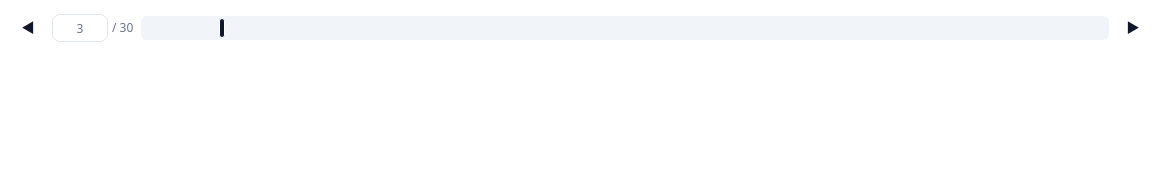
Test case: PagePositionBar › 편집 중 위치가 바뀌면 입력은 새 위치를 보인다
Replace the text in the field with test id "bar-input-page" with "9" at coordinates (80, 28), box [52,14,108,42]
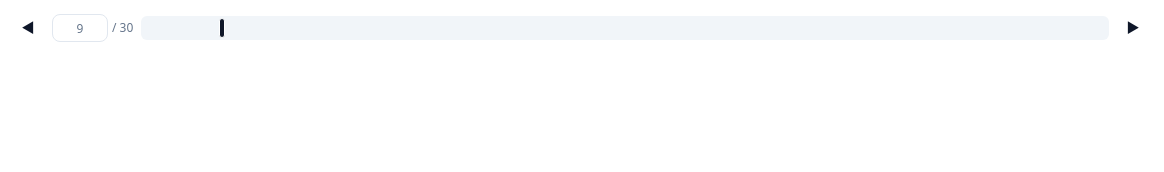
Click the button with test id "bar-button-next" at coordinates (1133, 28), box [1117,12,1149,44]
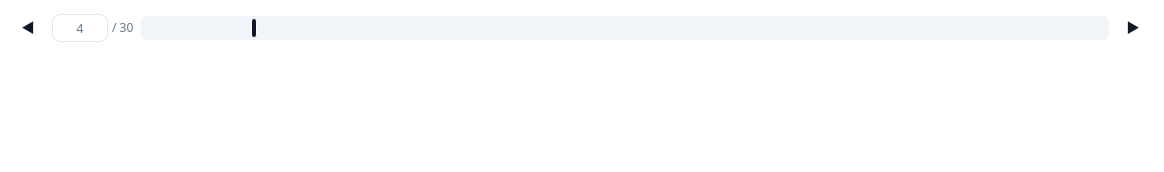
Now the field named "페이지 번호" holds "4", box [52,14,108,42]
